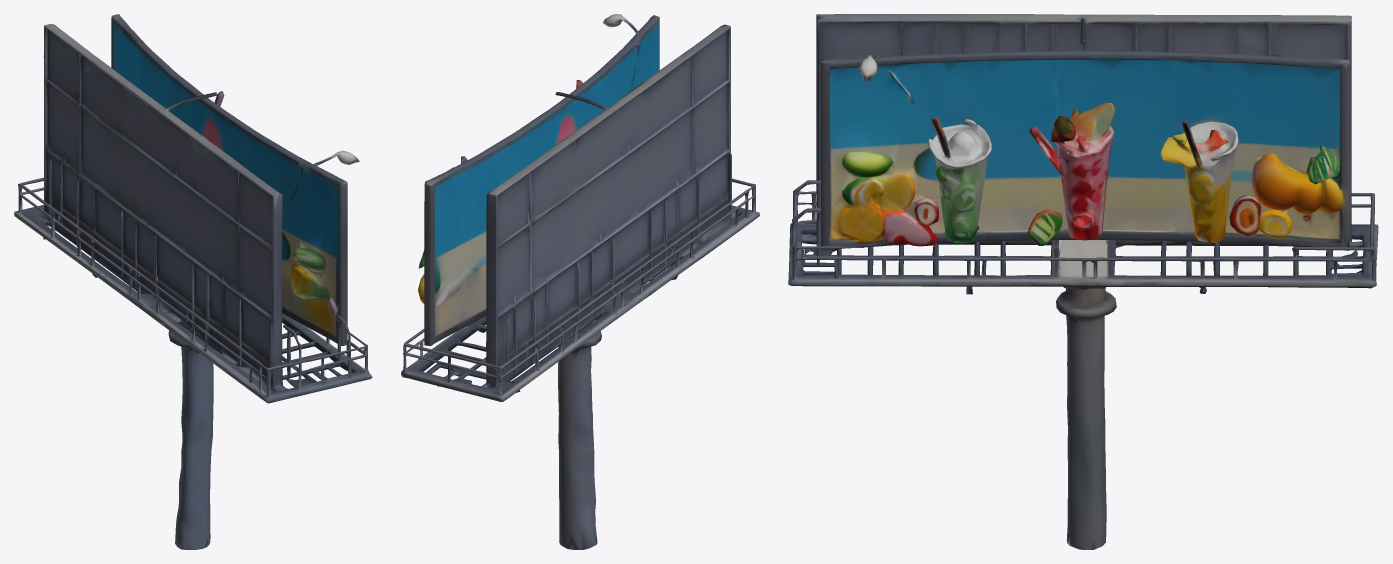
File: billboard.glb
The picture shows the model from 3 angles, left to right: view 1: azimuth 30°, elevation 25°; view 2: azimuth 150°, elevation 25°; view 3: azimuth 270°, elevation 25°; orthographic projection. The views are drawn at different scales.
Visible parts, largest first — view 1: tripo_node_f67db62f-115e-4bac-8945-513bbc2aa247; view 2: tripo_node_f67db62f-115e-4bac-8945-513bbc2aa247; view 3: tripo_node_f67db62f-115e-4bac-8945-513bbc2aa247.
Boxes of the visible parts, box(x1,y1,x2,y2) form: tripo_node_f67db62f-115e-4bac-8945-513bbc2aa247: box(14, 14, 372, 549); tripo_node_f67db62f-115e-4bac-8945-513bbc2aa247: box(401, 14, 759, 549); tripo_node_f67db62f-115e-4bac-8945-513bbc2aa247: box(788, 14, 1378, 549).
Size of the model in its own units: 1.49 by 5 by 5.2.
Materials: 1 (1 with a texture image).
